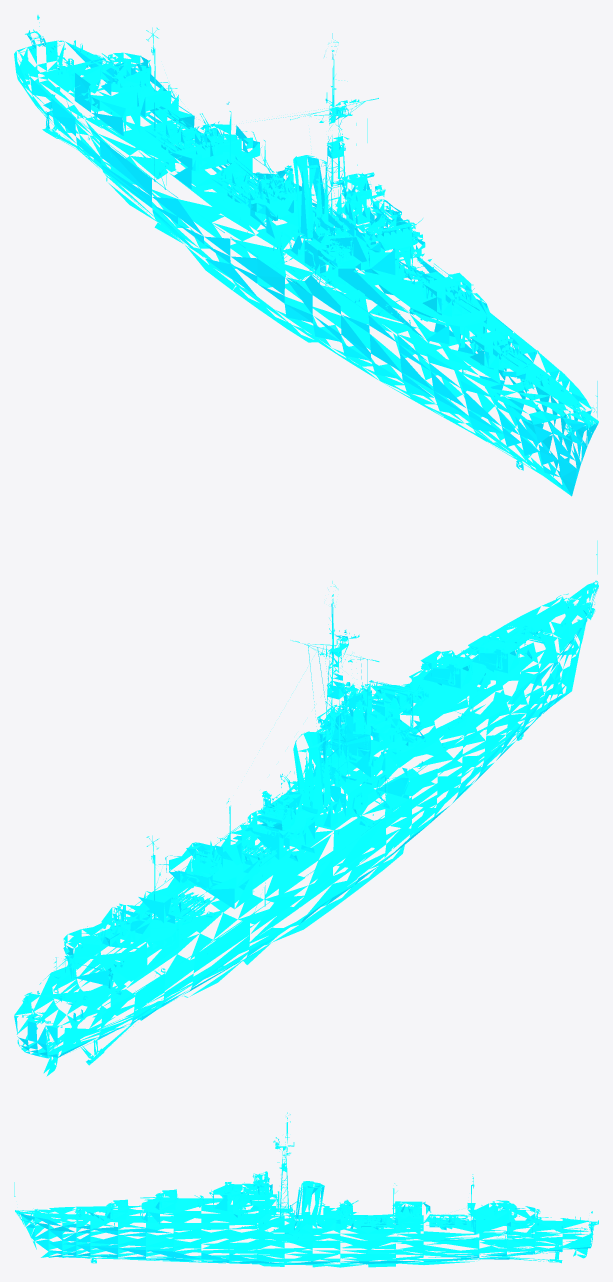
File: PBSD109.glb
The picture shows the model from 3 angles, top to bottom: view 1: azimuth 30°, elevation 25°; view 2: azimuth 150°, elevation 25°; view 3: azimuth 270°, elevation 25°; orthographic projection. The views are drawn at different scales.
Parts seen in each view (by area): view 1: hull_mid, main_battery, aa_mount, torpedo, hull_body; view 2: hull_mid, main_battery, aa_mount, torpedo, hull_body; view 3: hull_mid, main_battery, torpedo, aa_mount.
Part boxes in pixels (x1,y1,x2,y2): hull_mid: [14, 15, 598, 496]; main_battery: [95, 53, 526, 368]; aa_mount: [195, 113, 424, 284]; torpedo: [145, 120, 269, 205]; hull_body: [332, 172, 385, 203]; hull_mid: [14, 540, 598, 1076]; main_battery: [92, 630, 526, 947]; aa_mount: [192, 677, 428, 877]; torpedo: [151, 842, 277, 925]; hull_body: [341, 682, 385, 709]; hull_mid: [14, 1112, 598, 1267]; main_battery: [91, 1189, 530, 1219]; torpedo: [361, 1214, 466, 1230]; aa_mount: [194, 1182, 425, 1218].
Size of the model in its own units: 0.8192 by 2.32 by 7.79.
